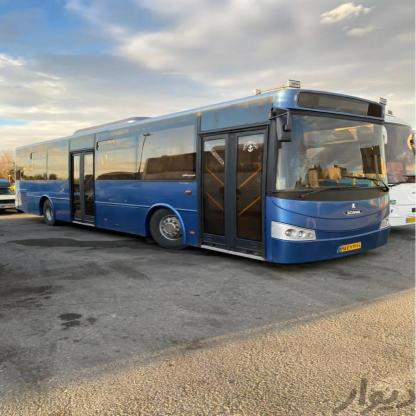Bus: (16, 85, 397, 267), (384, 117, 416, 230)
